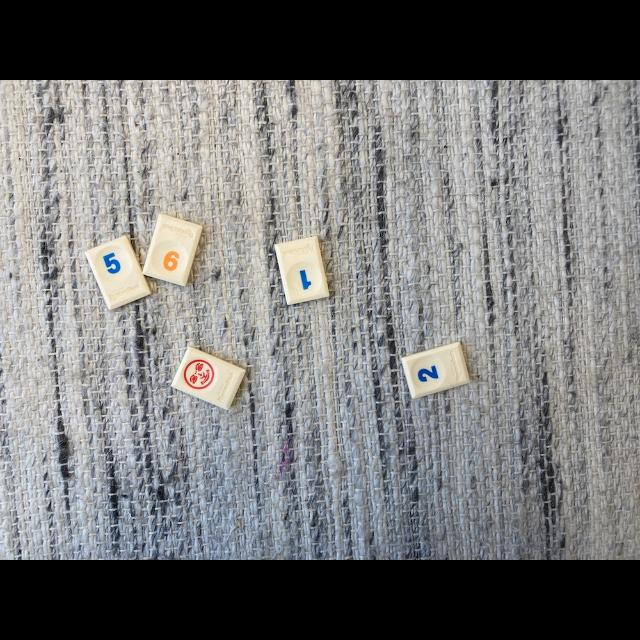blue_1: (276, 236, 329, 305)
blue_2: (401, 342, 470, 399)
blue_5: (85, 236, 150, 310)
joker: (171, 346, 245, 410)
orange_9: (142, 214, 202, 286)
